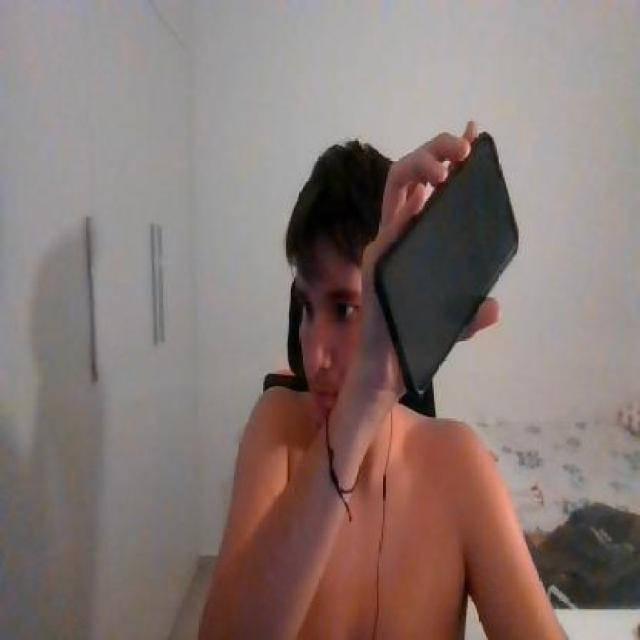mobile: (374, 132, 518, 403)
